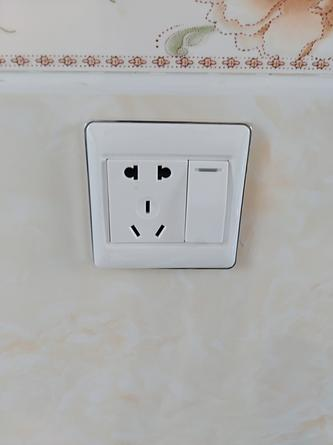switch: (187, 159, 228, 247)
